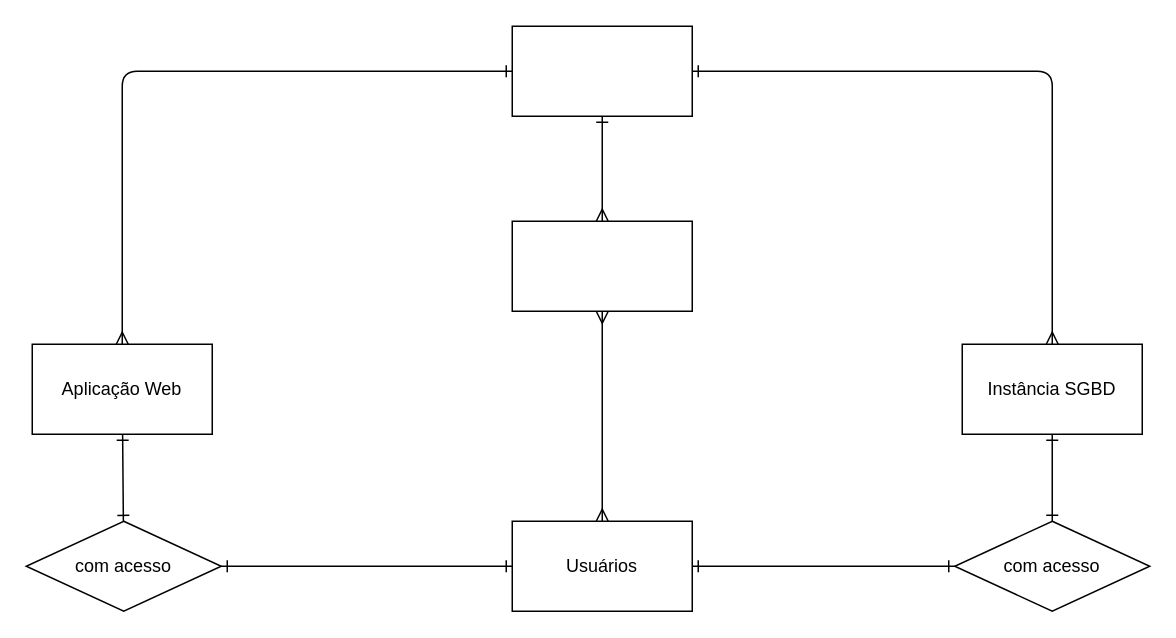
Image size: 1176x638. Some labels were removed from this diagram. Here are the shapes that lost their labels. From the top down, the box of each, then its label:
(511, 25, 692, 116): Tilha
(511, 220, 692, 311): Servidor
